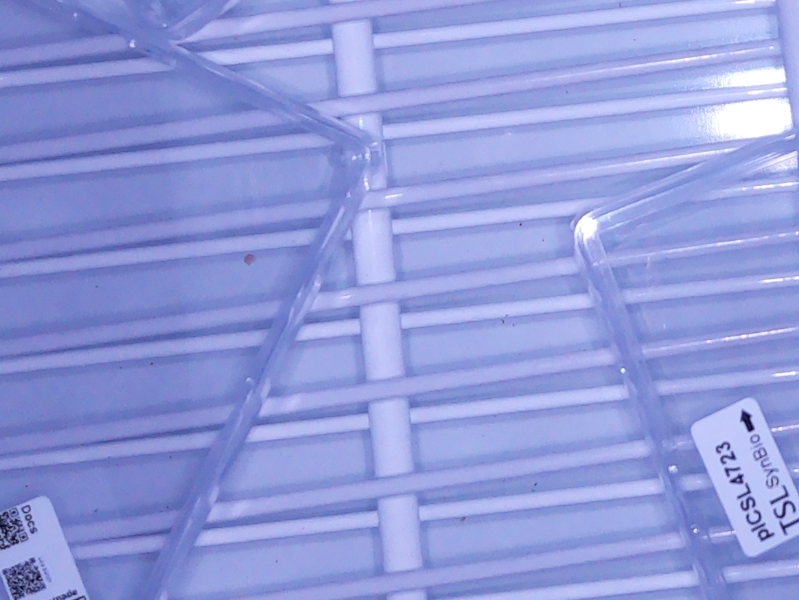plate: (1, 1, 379, 600), (573, 131, 799, 600), (115, 1, 237, 40)
